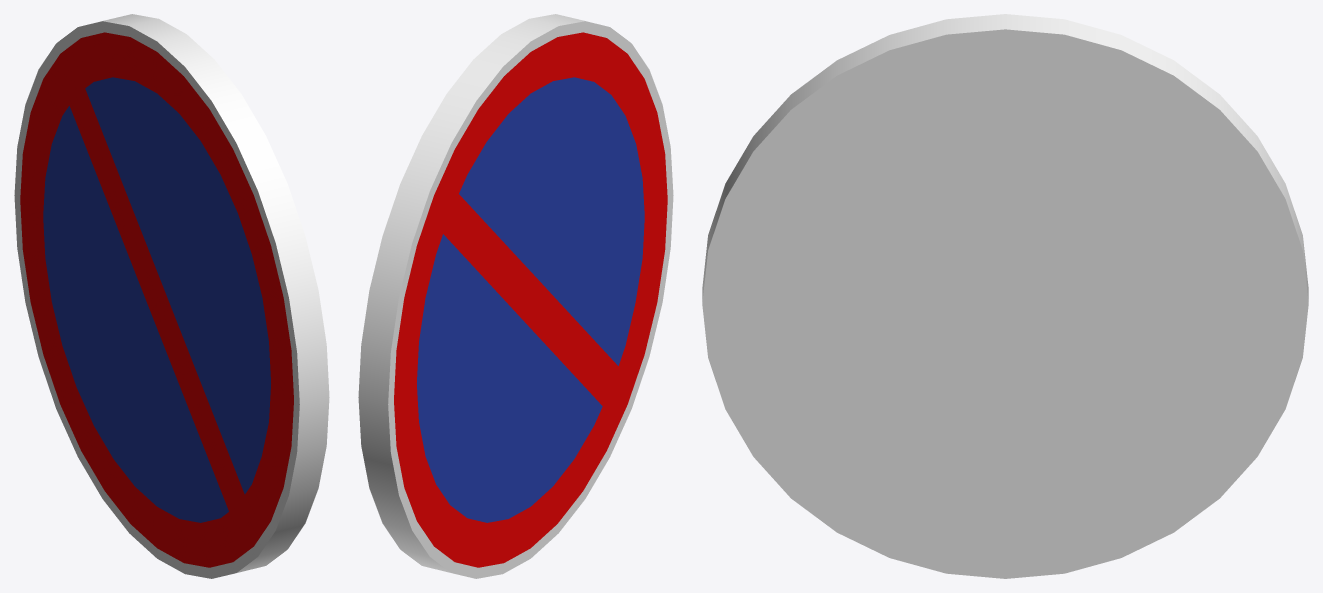
The model's file is No_Long_Time_Parking.fbx.
3 renders of one model, left to right at view 1: azimuth 30°, elevation 25°; view 2: azimuth 150°, elevation 25°; view 3: azimuth 270°, elevation 25°, orthographic. The views are drawn at different scales.
Visible parts, largest first — view 1: No_Long_Time_Parking; view 2: No_Long_Time_Parking; view 3: No_Long_Time_Parking.
Part boxes in pixels (box(x1,y1,x2,y2)): No_Long_Time_Parking: box(14, 14, 329, 578); No_Long_Time_Parking: box(358, 14, 673, 578); No_Long_Time_Parking: box(702, 14, 1308, 578).
Bounding box in the file's own units: 0.06 × 1 × 1.
